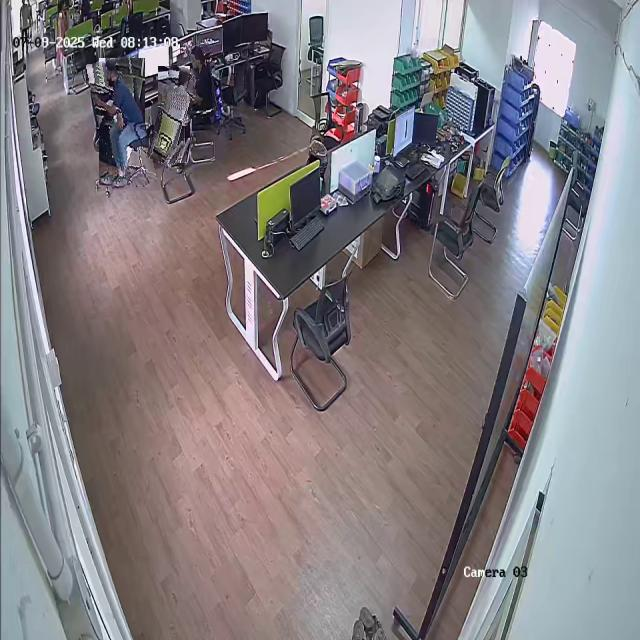person: (93, 57, 151, 188), (152, 65, 196, 164), (190, 43, 221, 118)
